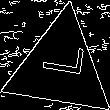L_W: (34, 48, 86, 87)
